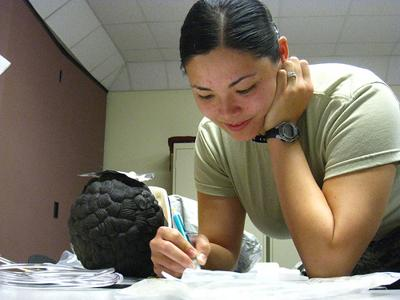person: (150, 2, 400, 278)
